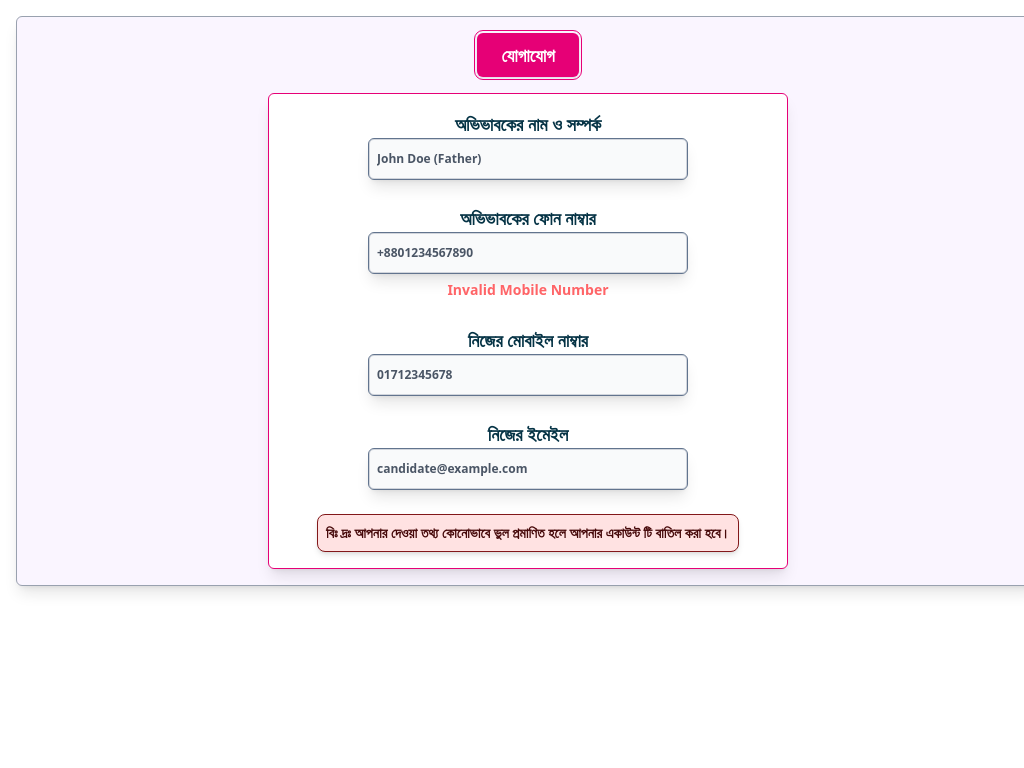
Scenario: ContactInfo Component › validates email input correctly
# Input an invalid email address
Replace the text in the field with placeholder "ইমেইল" with "invalid-email" at (528, 469), box [368,448,688,490]
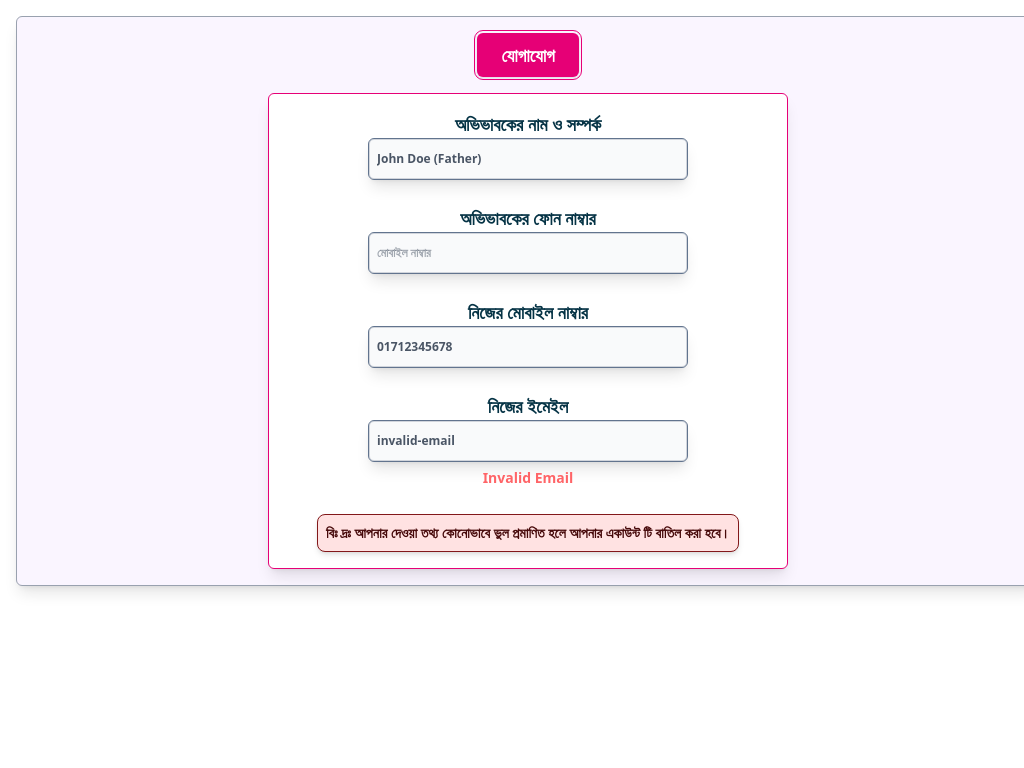
Result: the text "Invalid Email" is shown at [483,468,573,487]
# Input a valid email address
Replace the text in the field with placeholder "ইমেইল" with "valid.email@example.com" at (528, 441), box [368,420,688,462]
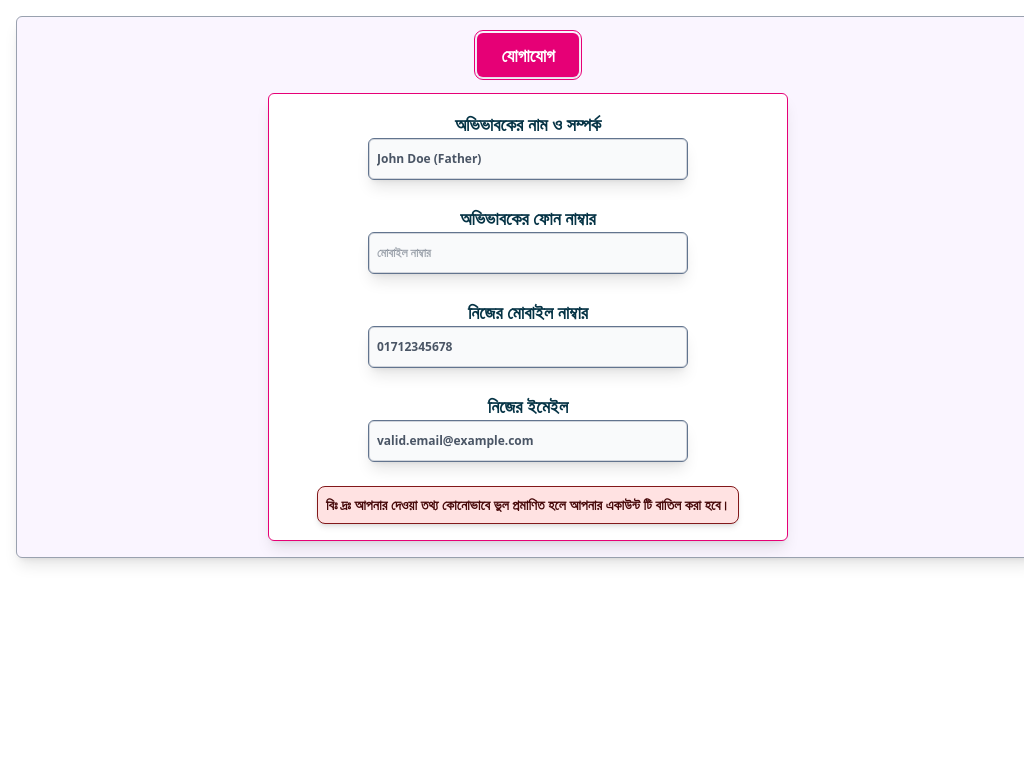
Result: the text "Invalid Email" is gone
